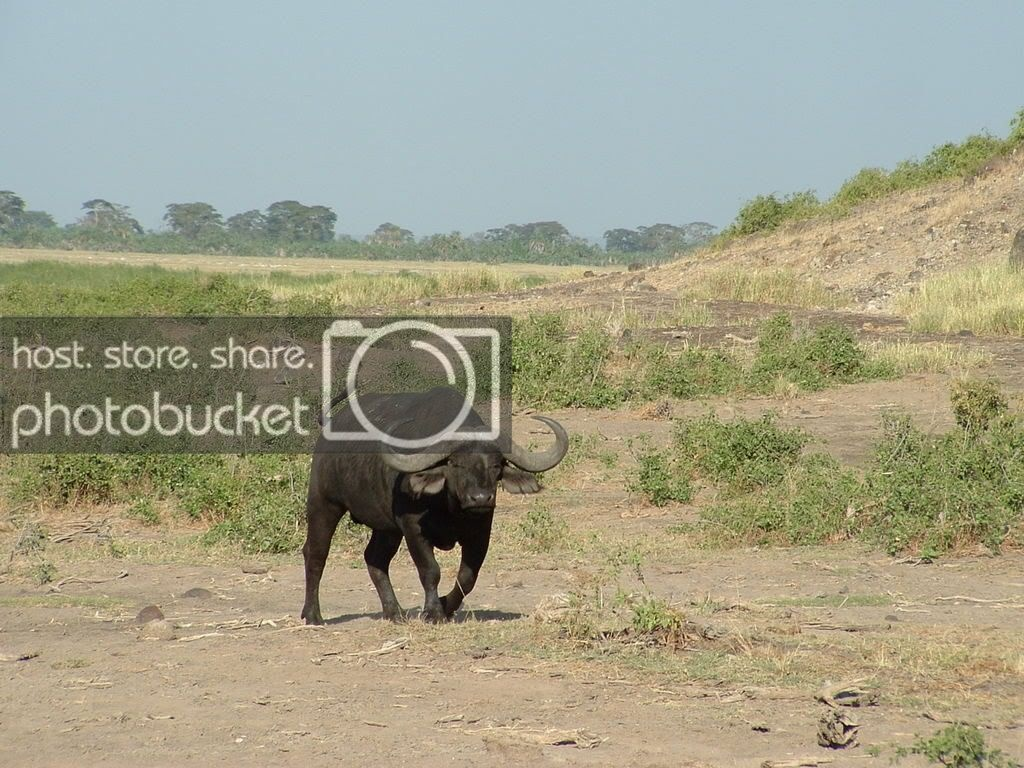buffalo: (434, 513, 700, 750)
